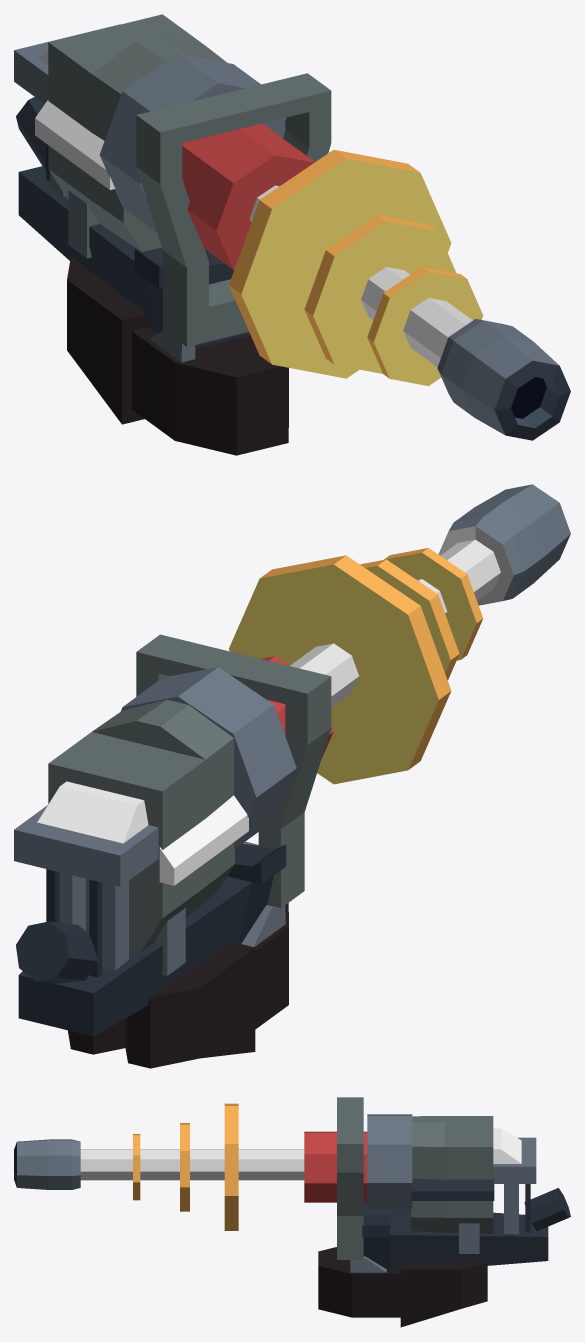
The model's file is Pickup_Laser.fbx.
The picture shows the model from 3 angles, top to bottom: view 1: azimuth 30°, elevation 25°; view 2: azimuth 150°, elevation 25°; view 3: azimuth 270°, elevation 25°; orthographic projection. The views are drawn at different scales.
Parts seen in each view (by area): view 1: Turret_Main, Turret_Laser; view 2: Turret_Main, Turret_Laser; view 3: Turret_Main, Turret_Laser.
Boxes of the visible parts, left/top/right/bottom form: Turret_Main: left=14, top=14, right=331, bottom=455; Turret_Laser: left=182, top=123, right=570, bottom=440; Turret_Main: left=14, top=634, right=331, bottom=1068; Turret_Laser: left=229, top=484, right=570, bottom=784; Turret_Main: left=318, top=1097, right=570, bottom=1327; Turret_Laser: left=14, top=1103, right=367, bottom=1230.
Bounding box in the file's own units: 453 × 751 × 1863.
